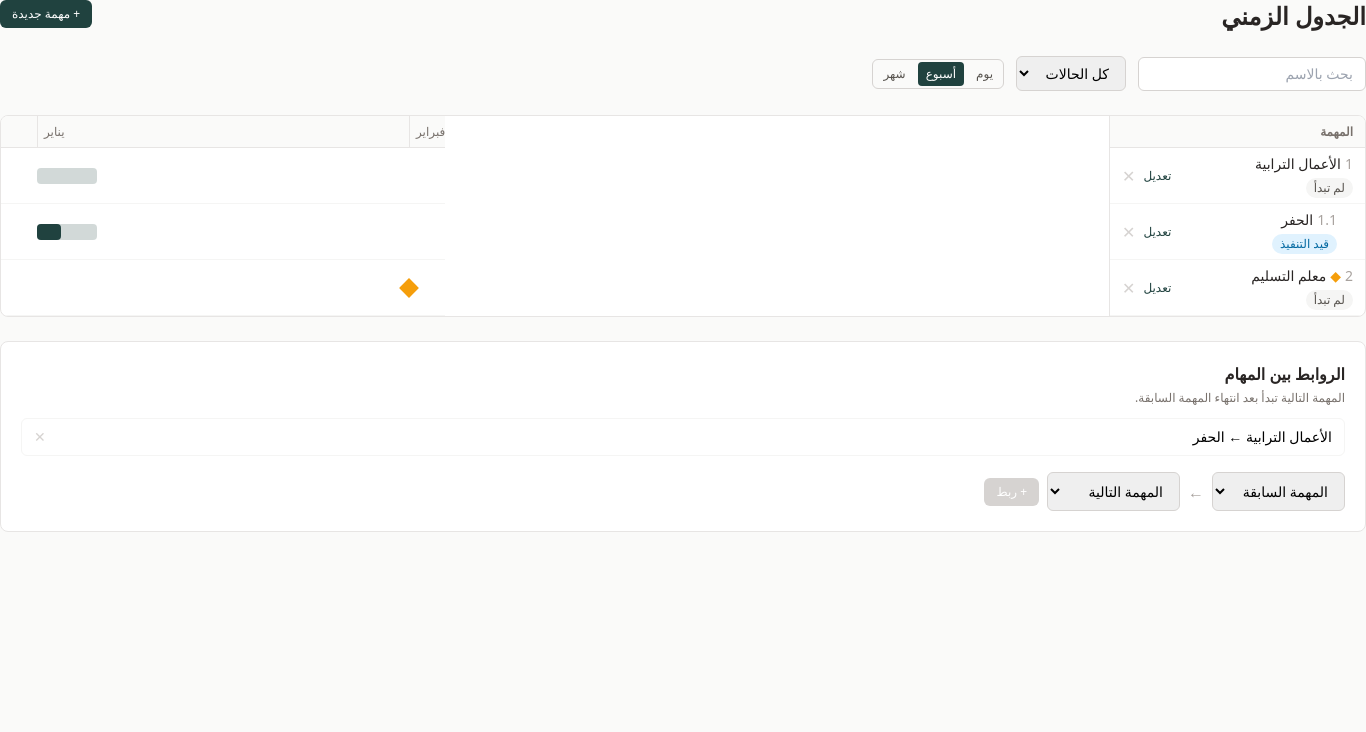
Test case: <ScheduleSection/> › a milestone form locks the end date to the start date
Expected: the element titled "الأعمال الترابية" is shown, [1255, 154, 1353, 174]
Click the button "+ مهمة جديدة": {"x": 46, "y": 14} [0, 0, 92, 28]
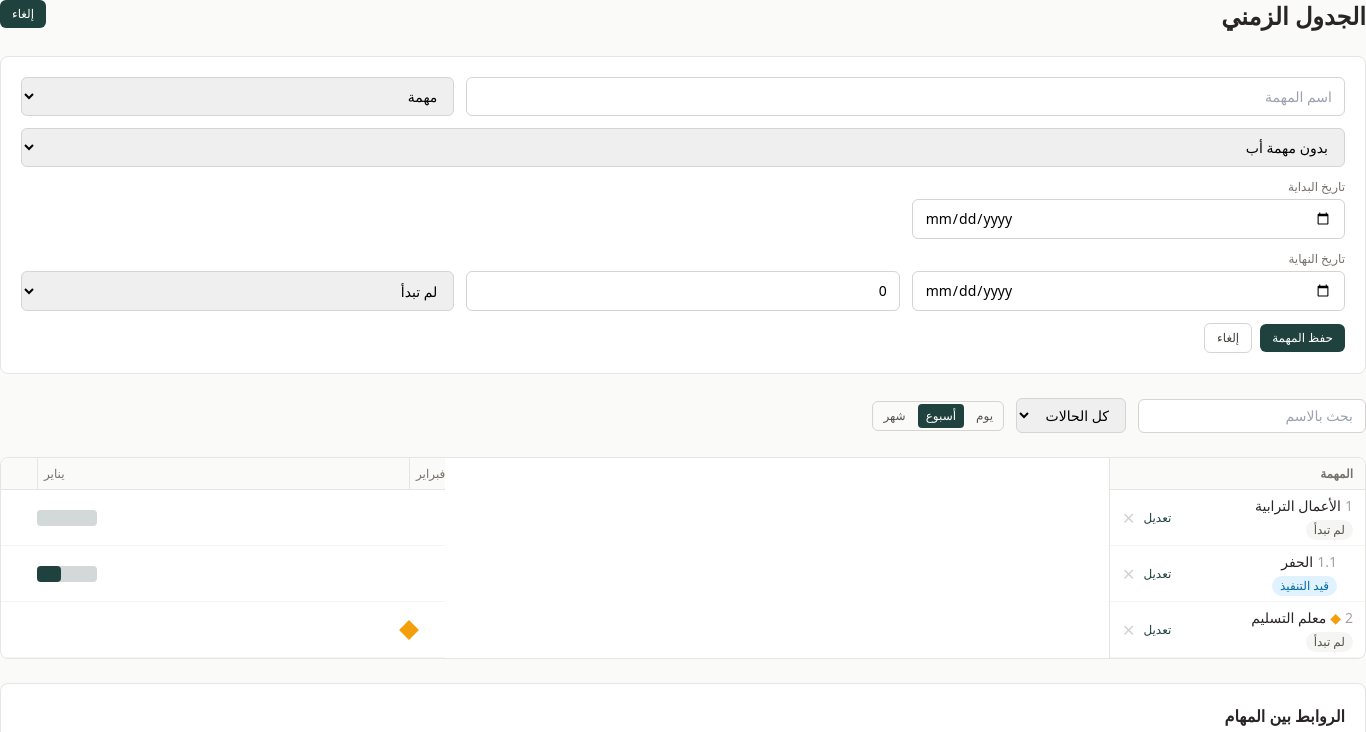
Select "معلم" in the 1st dropdown showing "مهمة": {"x": 238, "y": 96} [21, 77, 454, 116]
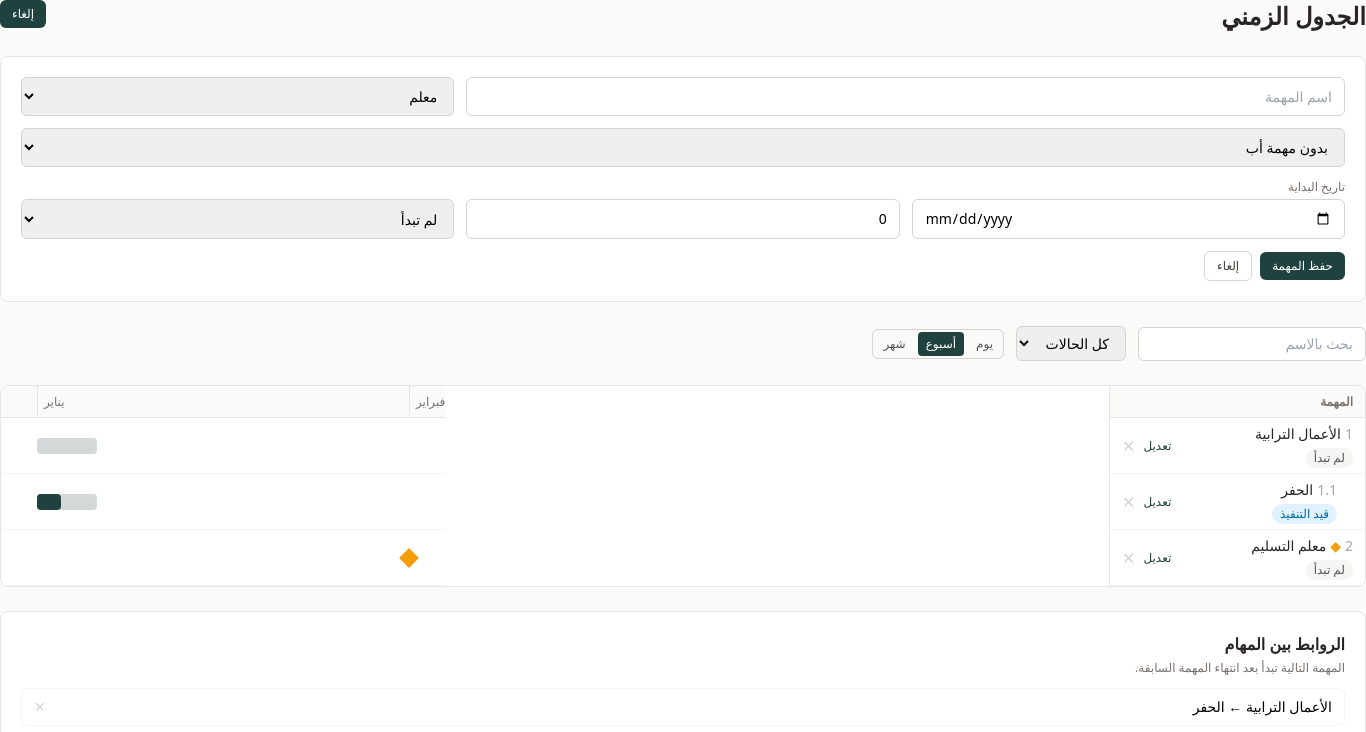
Expected: the number of date fields is 1, [912, 199, 1345, 239]
